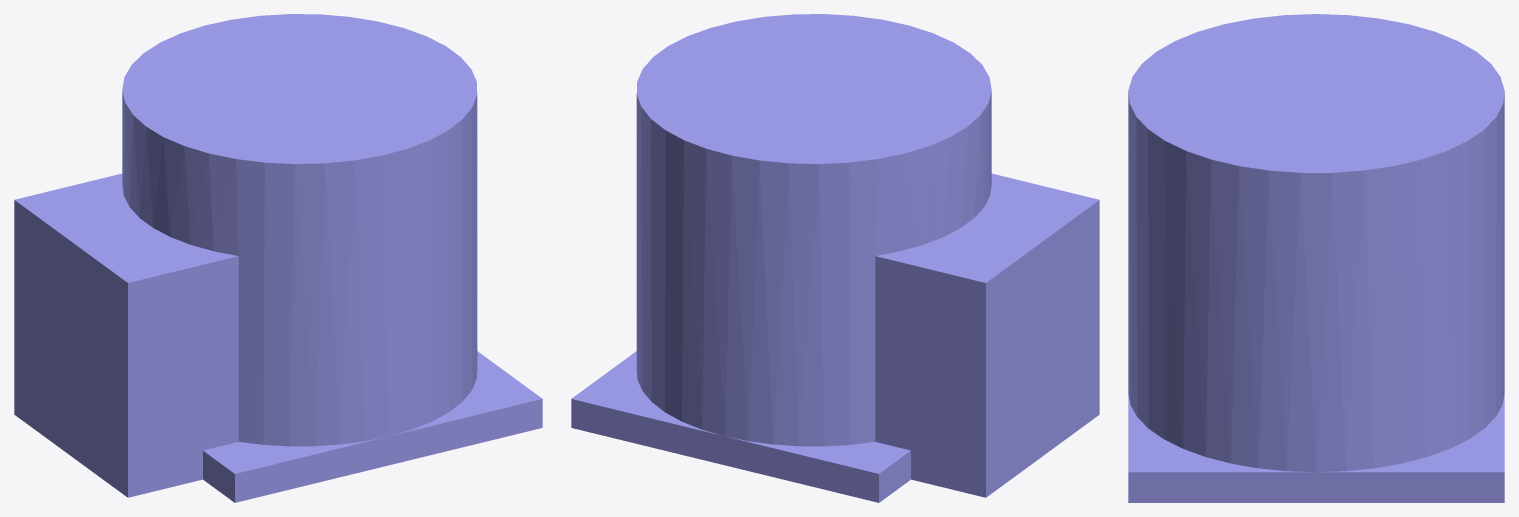
The model's file is DensoVM6083Link0.dae.
3 renders of one model, left to right at view 1: azimuth 30°, elevation 25°; view 2: azimuth 150°, elevation 25°; view 3: azimuth 270°, elevation 25°, orthographic. The views are drawn at different scales.
Visible parts, largest first — view 1: DensoVM6083Link0; view 2: DensoVM6083Link0; view 3: DensoVM6083Link0.
Boxes of the visible parts, left/top/right/bottom form: DensoVM6083Link0: left=14, top=14, right=542, bottom=502; DensoVM6083Link0: left=571, top=14, right=1099, bottom=502; DensoVM6083Link0: left=1128, top=14, right=1504, bottom=502.
Bounding box in the file's own units: 0.373 × 0.3 × 0.29.
